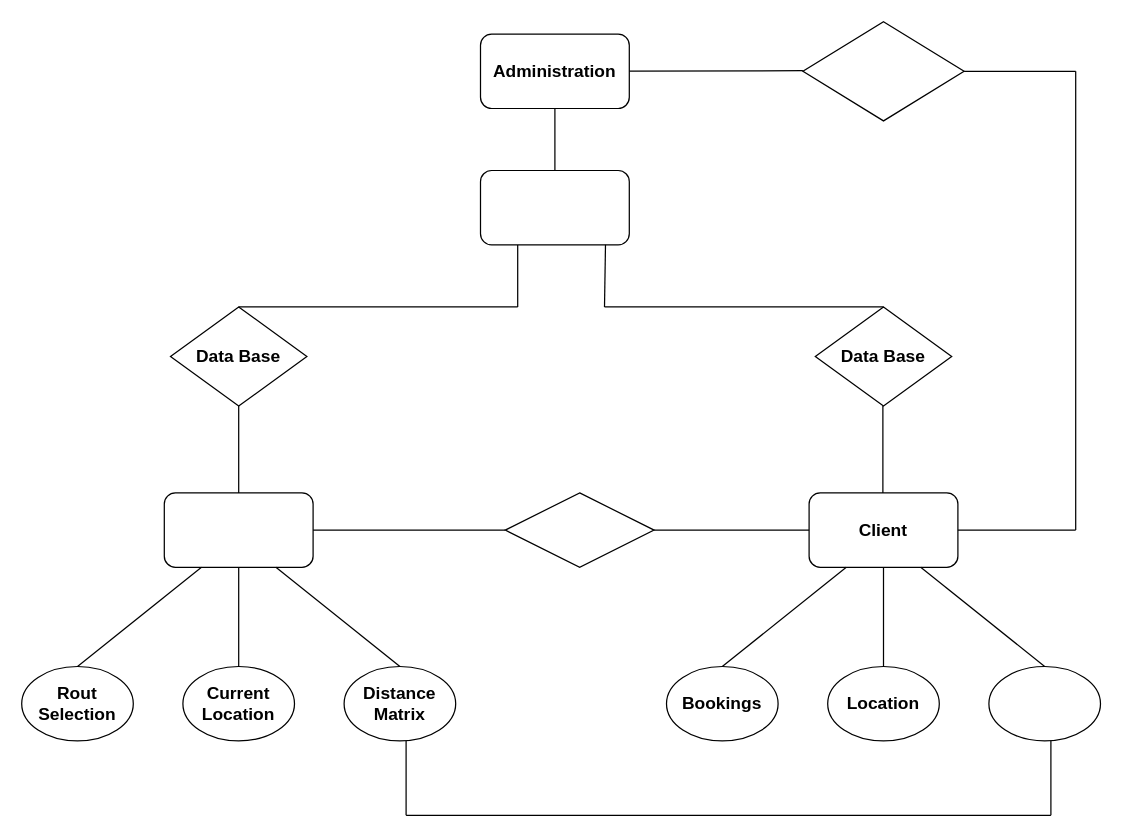
This 1122x838 diagram has some shape labels left out. The box of each missing label's shape, as (x1, y1, x2, y2) in pixels:
Customer Support: (802, 20, 964, 121)
Main Server: (479, 169, 629, 245)
Time Span: (988, 665, 1100, 741)
User (Driver): (163, 492, 313, 567)
Whatsapp: (504, 492, 654, 567)
